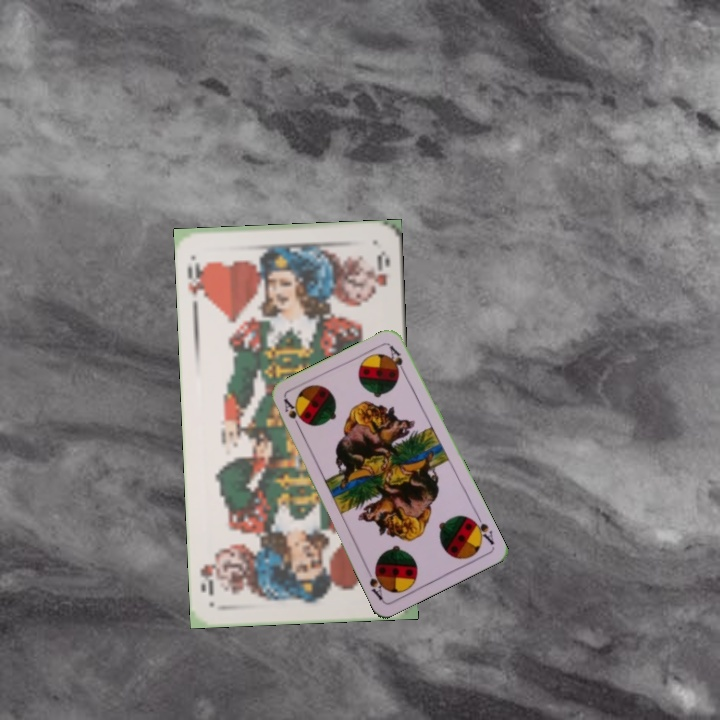HO: (184, 258, 210, 312)
SA: (466, 510, 497, 547), (279, 395, 305, 433)
